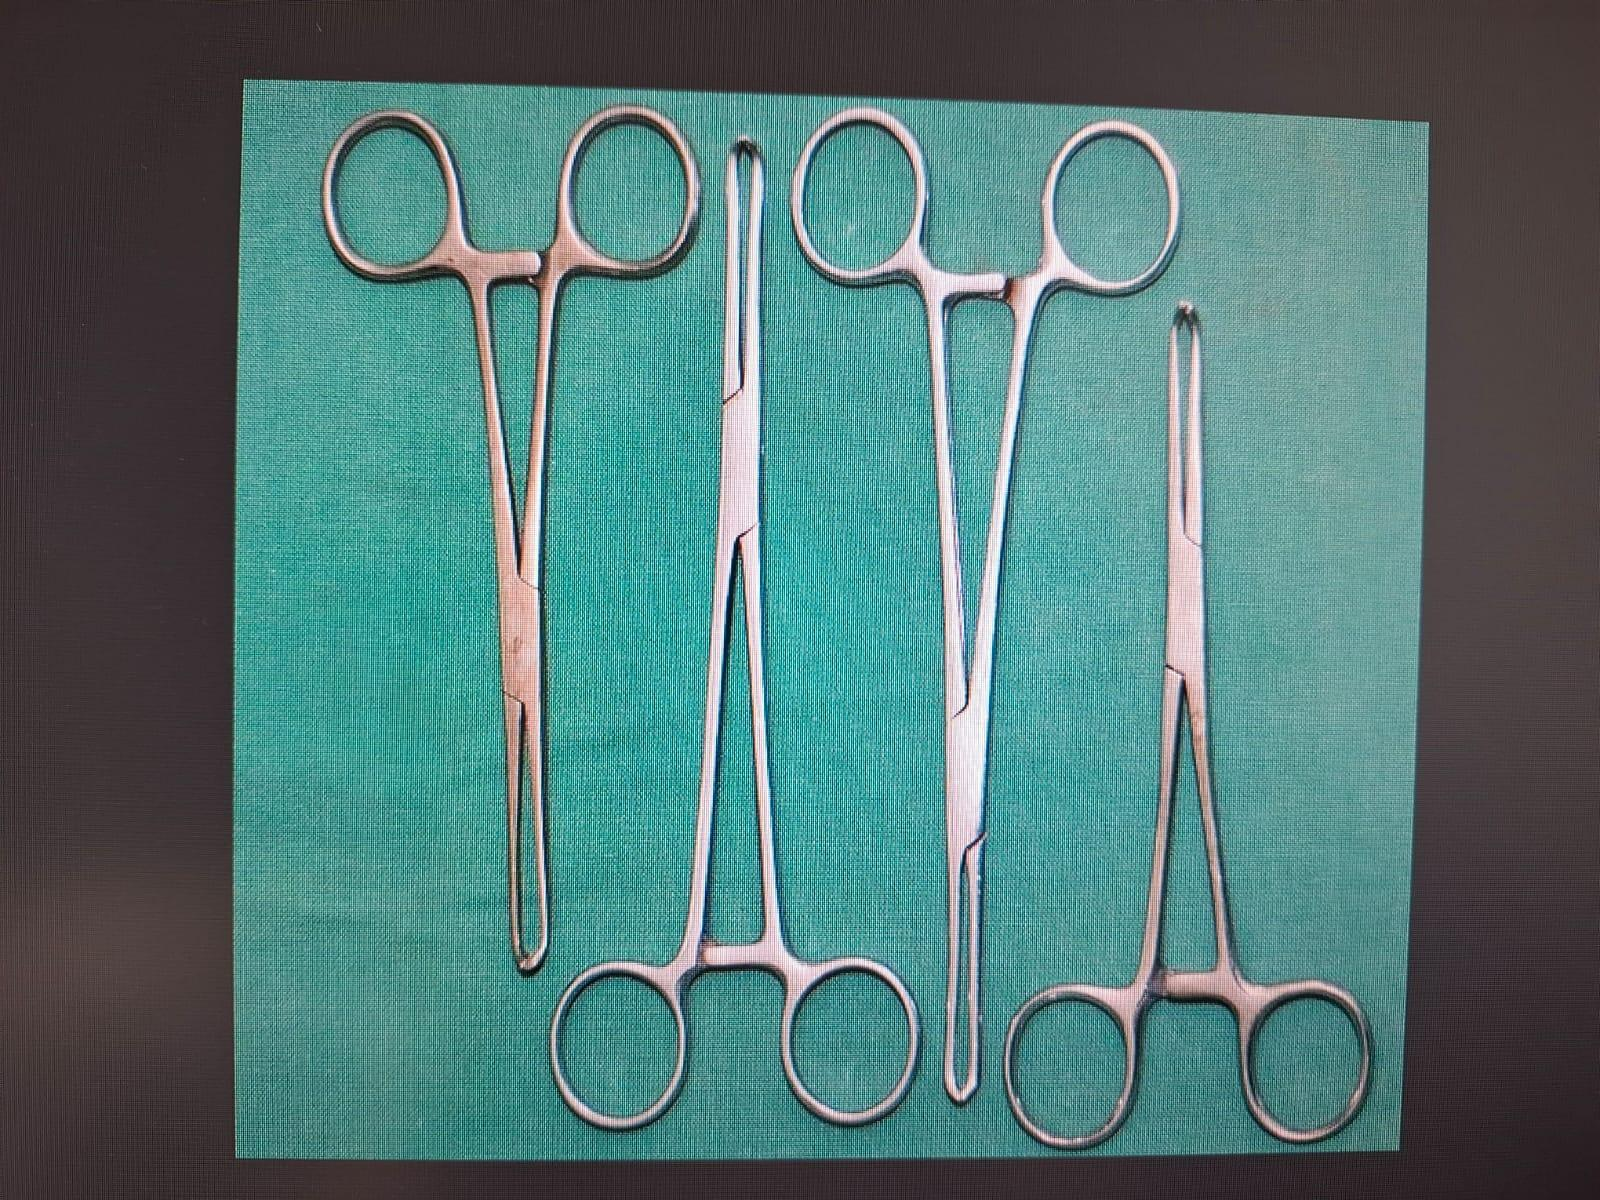Allis Forceps: (784, 102, 1180, 1126), (535, 120, 929, 1145), (990, 276, 1410, 1160), (316, 86, 714, 986)
